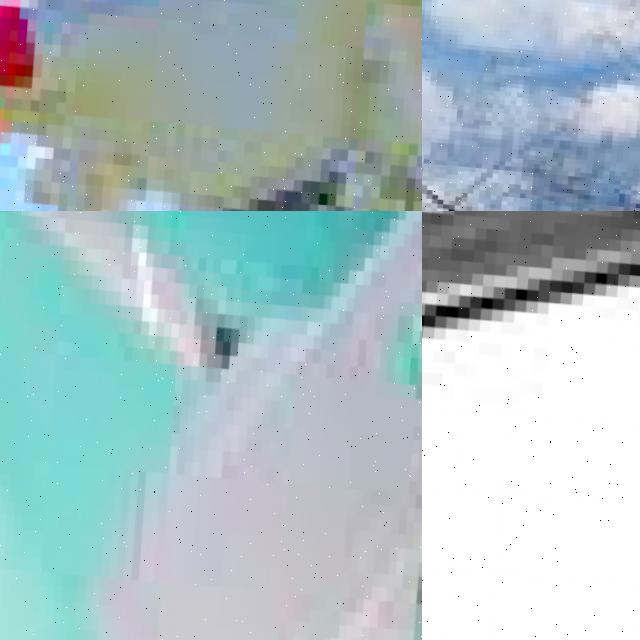drone: (0, 211, 422, 640), (422, 211, 640, 640), (0, 0, 422, 211)
